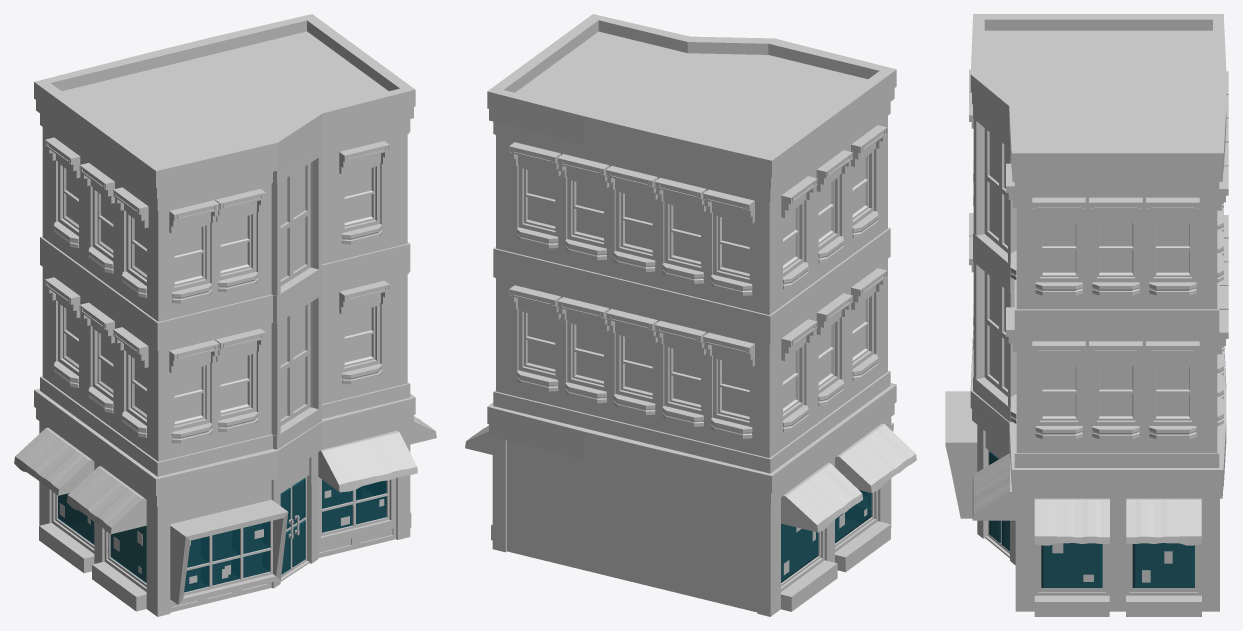
File: shop_04_large.fbx
3 renders of one model, left to right at view 1: azimuth 30°, elevation 25°; view 2: azimuth 150°, elevation 25°; view 3: azimuth 270°, elevation 25°, orthographic. The views are drawn at different scales.
Visible parts, largest first — view 1: shop_04_large, shop_04_large_glass; view 2: shop_04_large, shop_04_large_glass; view 3: shop_04_large, shop_04_large_glass.
Part boxes in pixels (x1,y1,x2,y2): shop_04_large: (14, 14, 436, 616); shop_04_large_glass: (58, 478, 386, 592); shop_04_large: (465, 14, 916, 616); shop_04_large_glass: (781, 490, 871, 582); shop_04_large: (945, 14, 1228, 616); shop_04_large_glass: (989, 451, 1194, 588).
Bounding box in the file's own units: 1028 × 1282 × 715.
